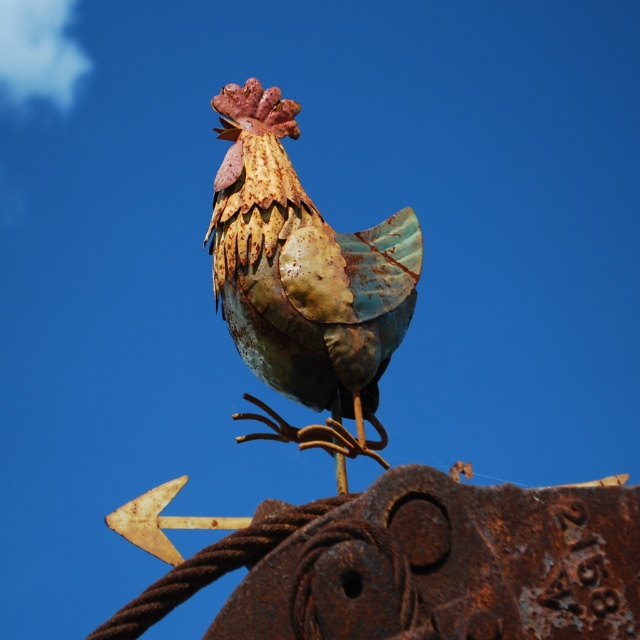Chicken: (202, 77, 429, 481)
